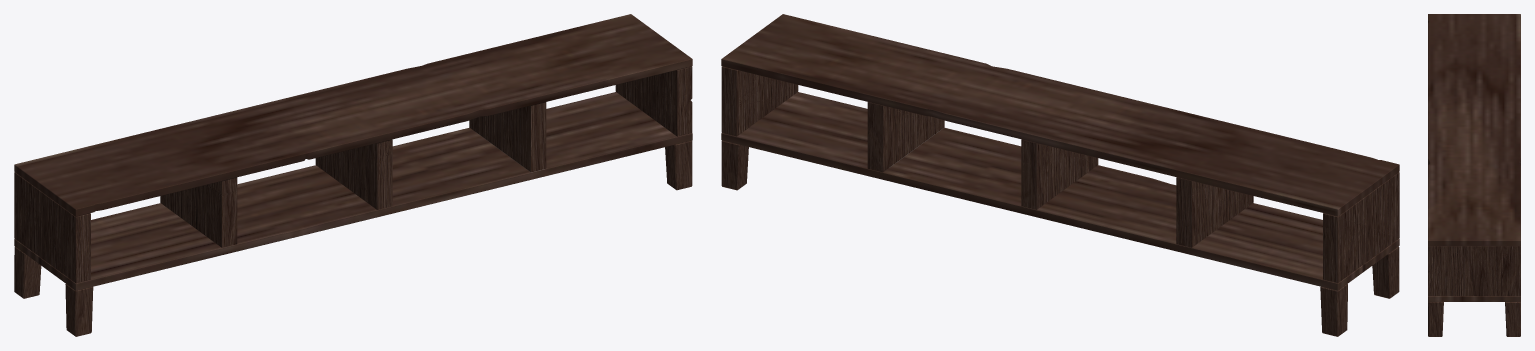
The model's file is table.gltf.
3 renders of one model, left to right at view 1: azimuth 30°, elevation 25°; view 2: azimuth 150°, elevation 25°; view 3: azimuth 270°, elevation 25°, orthographic. The views are drawn at different scales.
Parts seen in each view (by area): view 1: Sideboard; view 2: Sideboard; view 3: Sideboard.
Boxes of the visible parts, <box> form: Sideboard: <box>14,14,692,336</box>; Sideboard: <box>721,14,1399,336</box>; Sideboard: <box>1428,14,1520,336</box>.
Bounding box in the file's own units: 4.41 × 0.8746 × 0.7633.
Materials: 1 (1 with a texture image).
